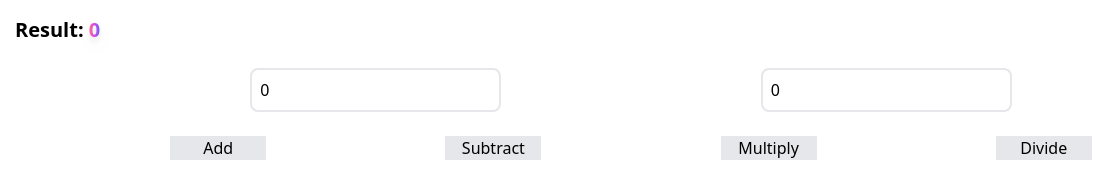
Test case: divide numbers
Replace the text in the number field with test id "num1" with "15" at point(376, 90), box [250,68,501,112]
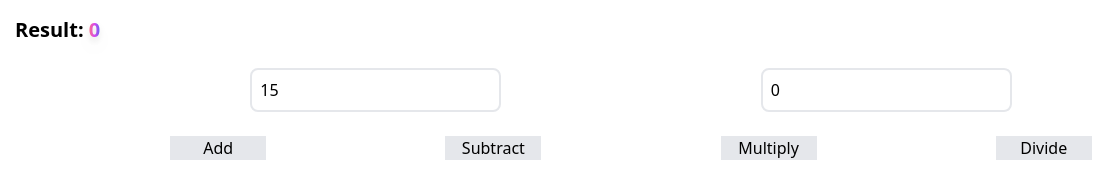
Replace the text in the number field with test id "num2" with "3" at point(886, 90), box [761,68,1012,112]
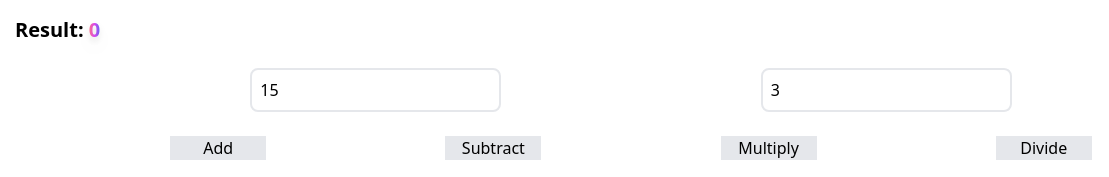
Click the button with test id "divide" at point(1044, 148), box [996,136,1092,160]
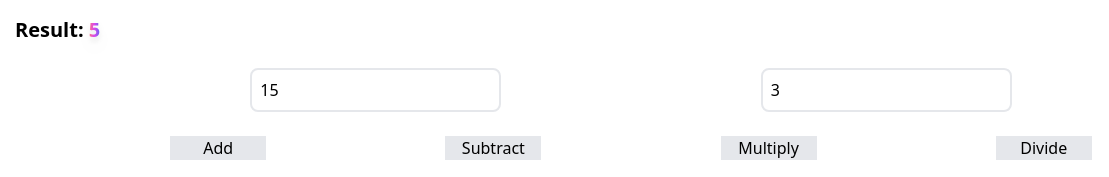
Expected: the element with test id "result" shows "5", [89,16,100,43]
